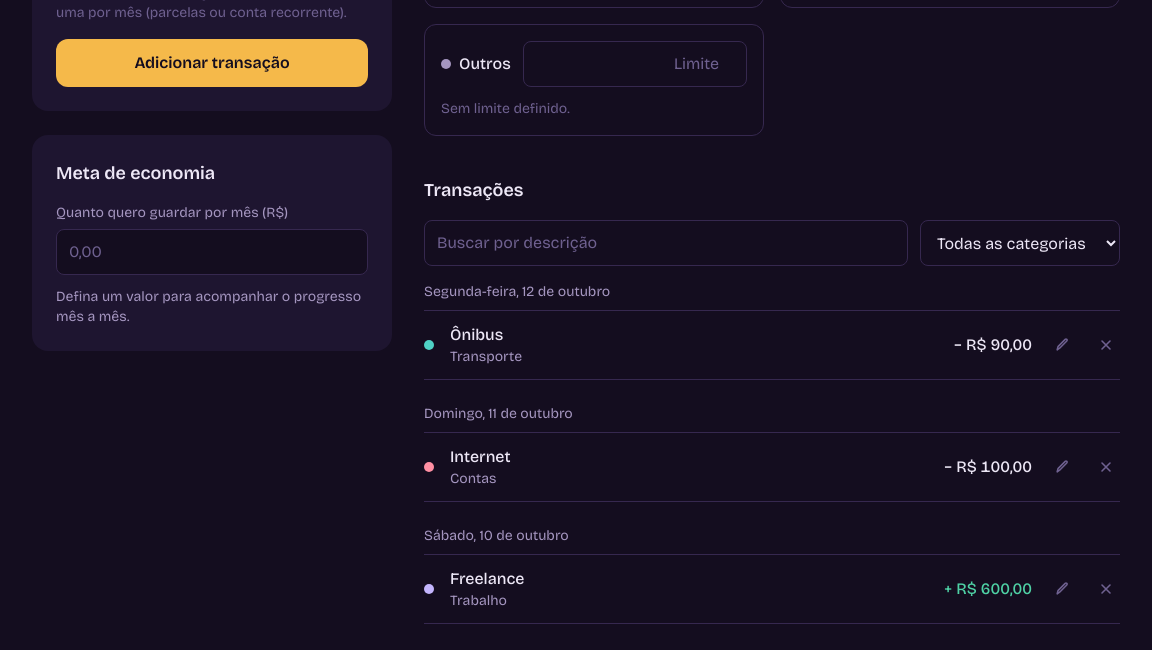
Test: Dashboard › exclui uma transação
(page scrolled)
Click the button named "Excluir Ônibus" at coordinates (1106, 345), box top-left (1092, 331), bottom-right (1120, 359)
(page scrolled)
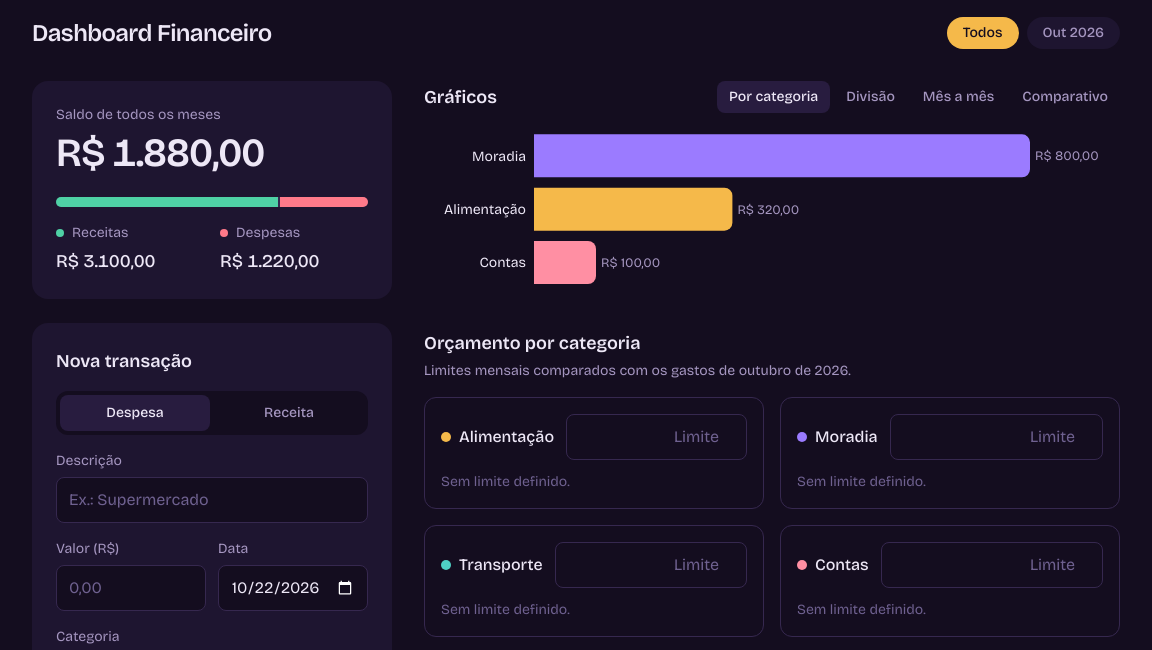
expect the text "Ônibus" is gone: met
expect the text "R$ 1.880,00" is shown: met, box top-left (56, 129), bottom-right (264, 177)
